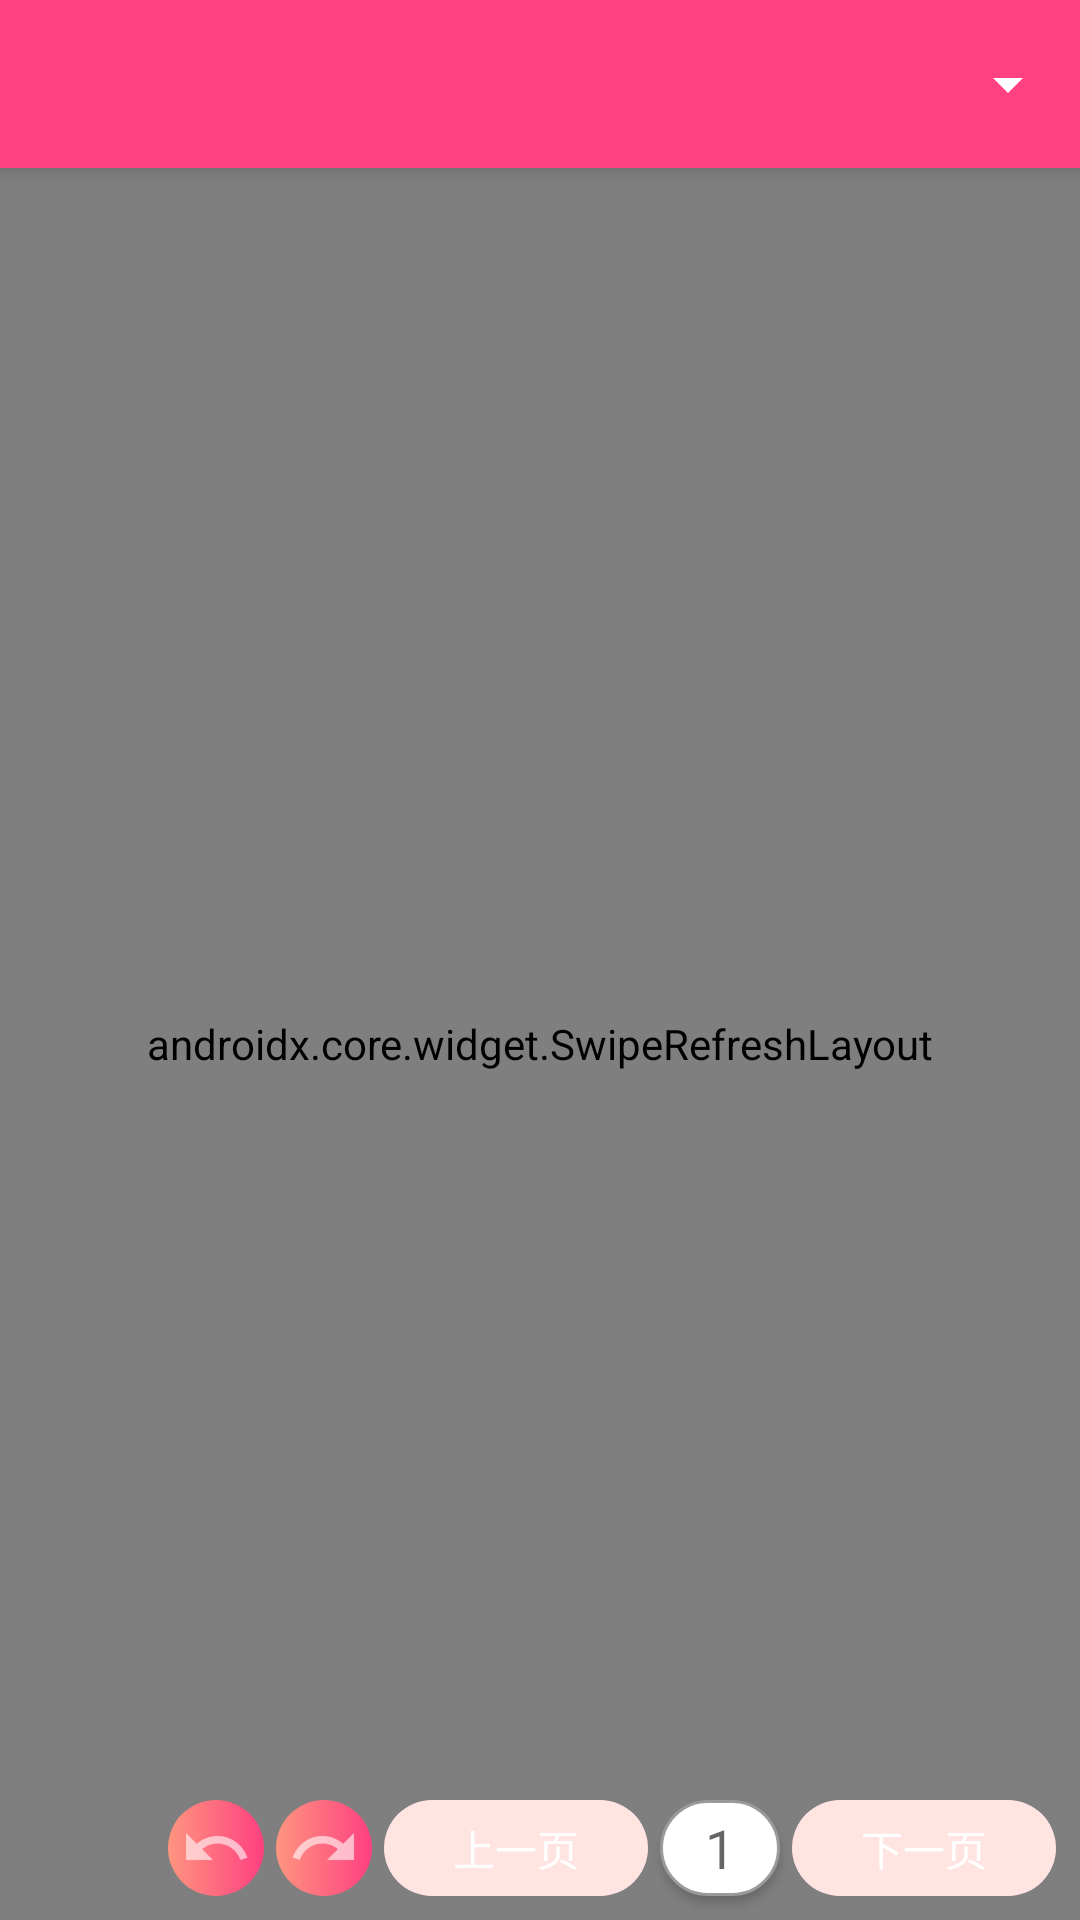

Where to tap for icons on this 1080x1920 app screen, as (x,y):
redo: (324,1848)
undo: (216,1848)
